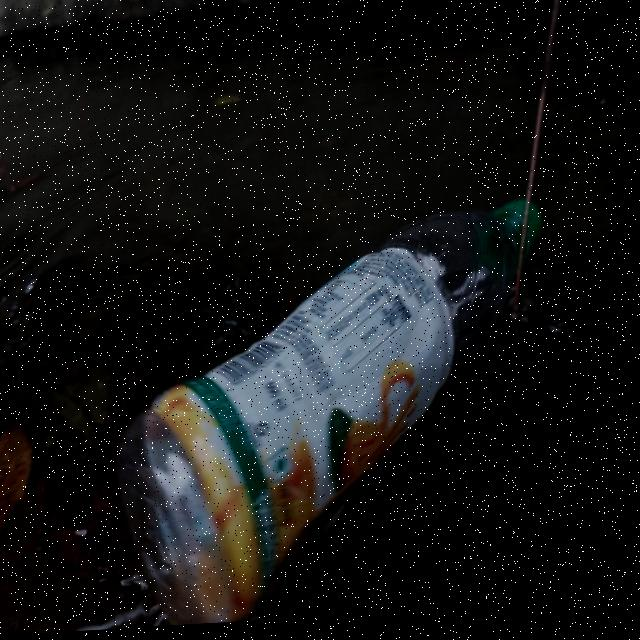leaf: (0, 410, 136, 640)
waterbottle: (126, 198, 566, 607)
